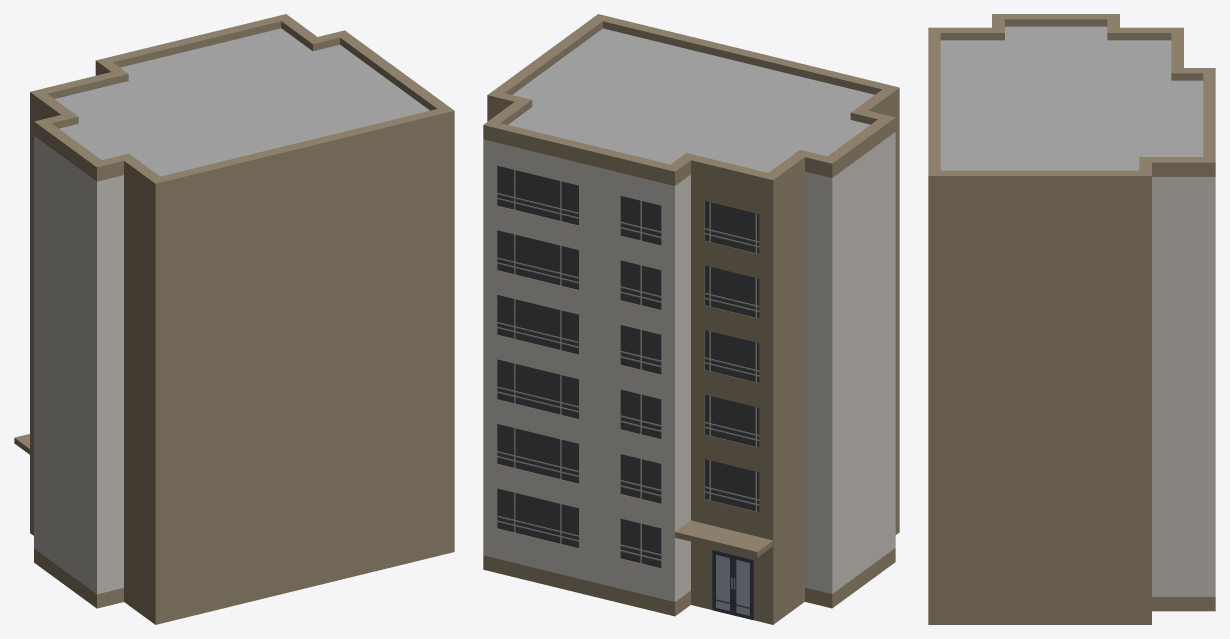
The model's file is spw-urban-bldg-02.glb.
3 renders of one model, left to right at view 1: azimuth 30°, elevation 25°; view 2: azimuth 150°, elevation 25°; view 3: azimuth 270°, elevation 25°, orthographic.
Visible parts, largest first — view 1: SPW_Urban_Bldg_02; view 2: SPW_Urban_Bldg_02; view 3: SPW_Urban_Bldg_02.
Boxes of the visible parts, box(x1,y1,x2,y2) form: SPW_Urban_Bldg_02: box(14, 14, 454, 624); SPW_Urban_Bldg_02: box(483, 14, 899, 624); SPW_Urban_Bldg_02: box(928, 14, 1215, 624).
Bounding box in the file's own units: 21 × 27.12 × 15.75.
Materials: 1 (1 with a texture image).
